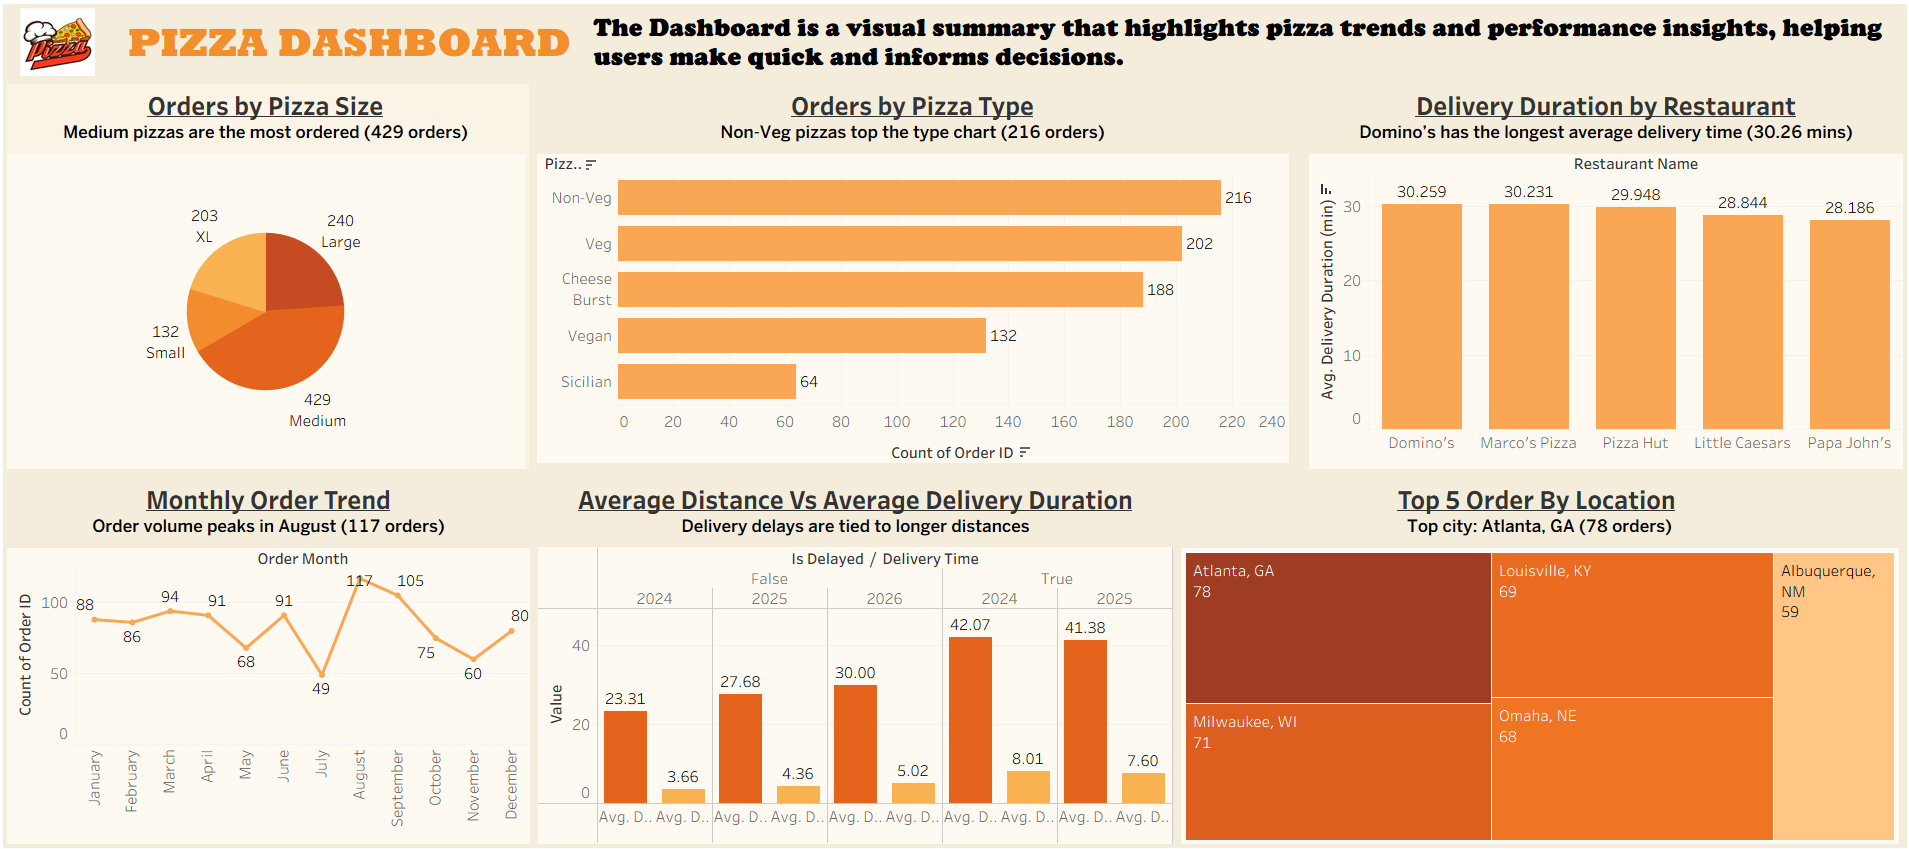

What the dashboard file says about the page in this screenshot:
{"tool":"tableau","page":{"name":"Dashboard 1","canvas":[1000,1000],"units":"permille","ordinal":0},"visuals":[{"type":"image","param":"C:/Users/Dell/Desktop/download.png","box":[4.9,10,57.1,88.4]},{"type":"text","box":[62,10,246.2,88.4]},{"type":"text","box":[308.2,10,686.9,88.4]},{"type":"worksheet","title":"Orders by Pizza Size","mark":"Pie","box":[4.9,98.4,275.8,456.7]},{"type":"worksheet","title":"Orders by Pizza Type","mark":"Automatic","rows":["Pizza Type"],"cols":["Order ID"],"box":[280.7,98.4,401.2,456.7]},{"type":"worksheet","title":"Delivery Duration by Restaurant (Bar Chart)","mark":"Automatic","rows":["Delivery Duration (min)"],"cols":["Restaurant Name"],"box":[681.9,98.4,313.2,456.7]},{"type":"worksheet","title":"Monthly Order Trend","mark":"Line","rows":["Order ID"],"cols":["Order Month"],"box":[4.9,555.1,276.1,434.9]},{"type":"worksheet","title":"avgrage distance vs delivery duration","mark":"Bar","cols":["Is Delayed","Delivery Time"],"box":[281.1,555.1,334.4,434.9]},{"type":"worksheet","title":"Top 10 Order By Location ","mark":"Automatic","box":[615.5,555.1,379.6,434.9]}]}

Visuals, with their boxes on the dashboard's canvas, which has no fixed pixel size, in thousandths of its width and height (x1, y1, x2, y2). These are canvas units, not pixel positions in the 1909x849 screenshot, which may show the page scaled, cropped or inside an application window:
image: locate(5, 10, 62, 98)
text: locate(62, 10, 308, 98)
text: locate(308, 10, 995, 98)
"Orders by Pizza Size" worksheet (Pie marks): locate(5, 98, 281, 555)
"Orders by Pizza Type" worksheet: locate(281, 98, 682, 555)
"Delivery Duration by Restaurant (Bar Chart)" worksheet: locate(682, 98, 995, 555)
"Monthly Order Trend" worksheet (Line marks): locate(5, 555, 281, 990)
"avgrage distance vs delivery duration" worksheet (Bar marks): locate(281, 555, 616, 990)
"Top 10 Order By Location " worksheet: locate(616, 555, 995, 990)
